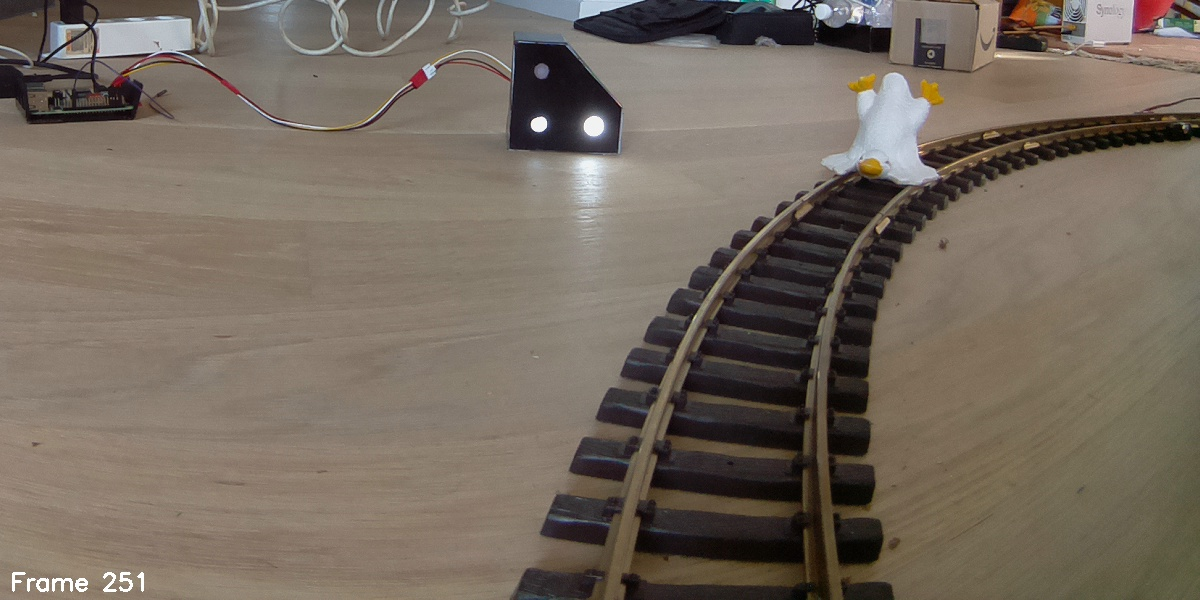Halt: (508, 30, 621, 157)
